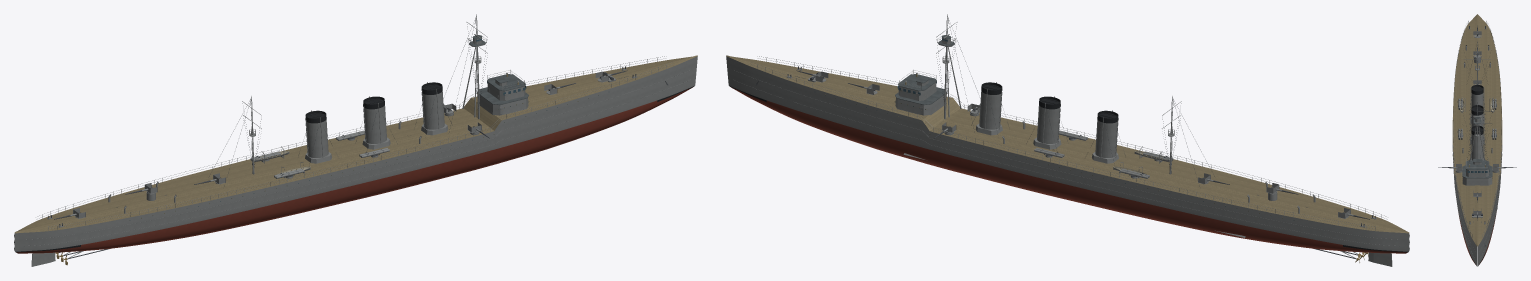
The model's file is kuma.glb.
3 views of the same model, side by side, from view 1: azimuth 30°, elevation 25°; view 2: azimuth 150°, elevation 25°; view 3: azimuth 270°, elevation 25° (orthographic). The views are drawn at different scales.
Parts seen in each view (by area): view 1: Kuma class; view 2: Kuma class; view 3: Kuma class.
Part boxes in pixels (x1,y1,x2,y2): Kuma class: (14,14,697,266); Kuma class: (726,14,1409,266); Kuma class: (1438,14,1516,266).
Size of the model in its own units: 162 by 33.1 by 22.56.
Materials: 9 (8 with a texture image).
